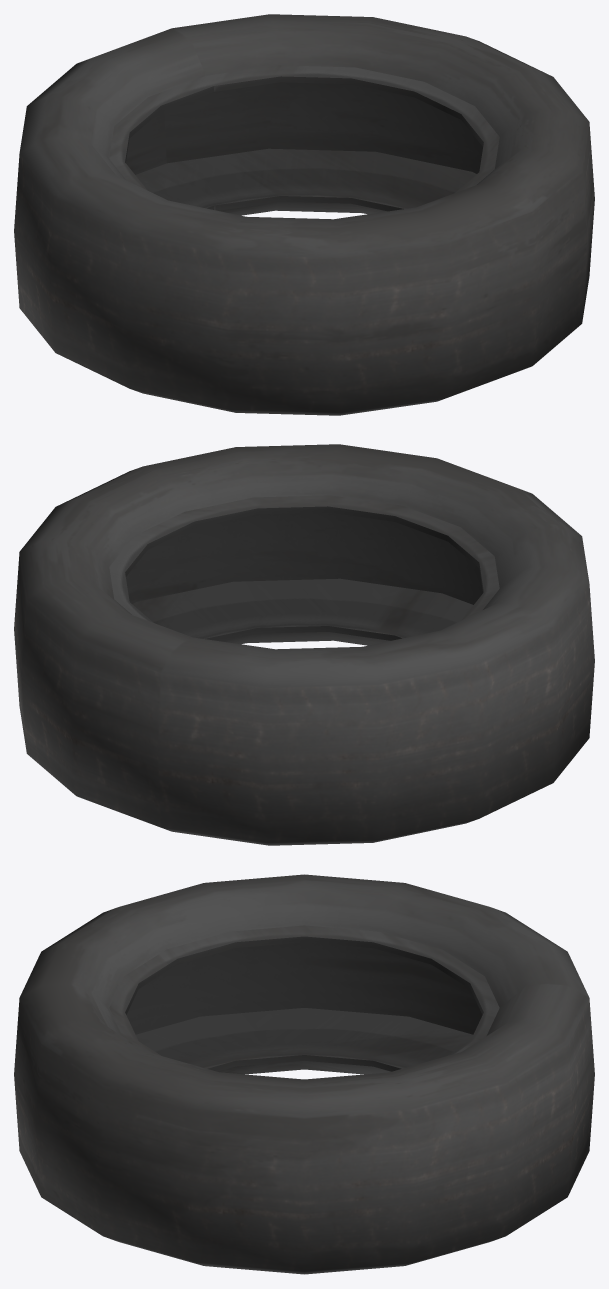
File: Tire.fbx
3 views of the same model, one above another, from view 1: azimuth 30°, elevation 25°; view 2: azimuth 150°, elevation 25°; view 3: azimuth 270°, elevation 25° (orthographic).
Parts seen in each view (by area): view 1: Tire; view 2: Tire; view 3: Tire.
Part boxes in pixels (left/top/right/bottom): Tire: left=14, top=14, right=594, bottom=415; Tire: left=14, top=444, right=594, bottom=845; Tire: left=14, top=874, right=594, bottom=1274.
Bounding box in the file's own units: 73.08 × 25.14 × 73.08.
